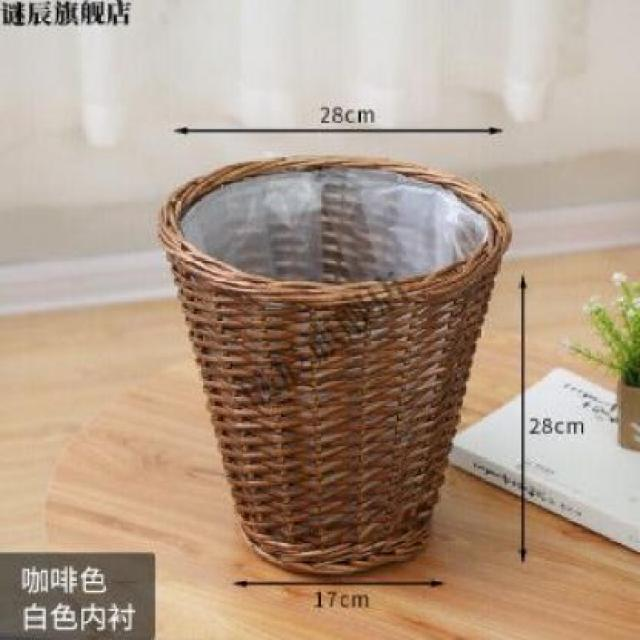dustbin: (150, 146, 514, 583)
